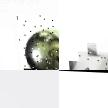ironball: (14, 13, 59, 70), (76, 50, 107, 70), (24, 56, 58, 70)
